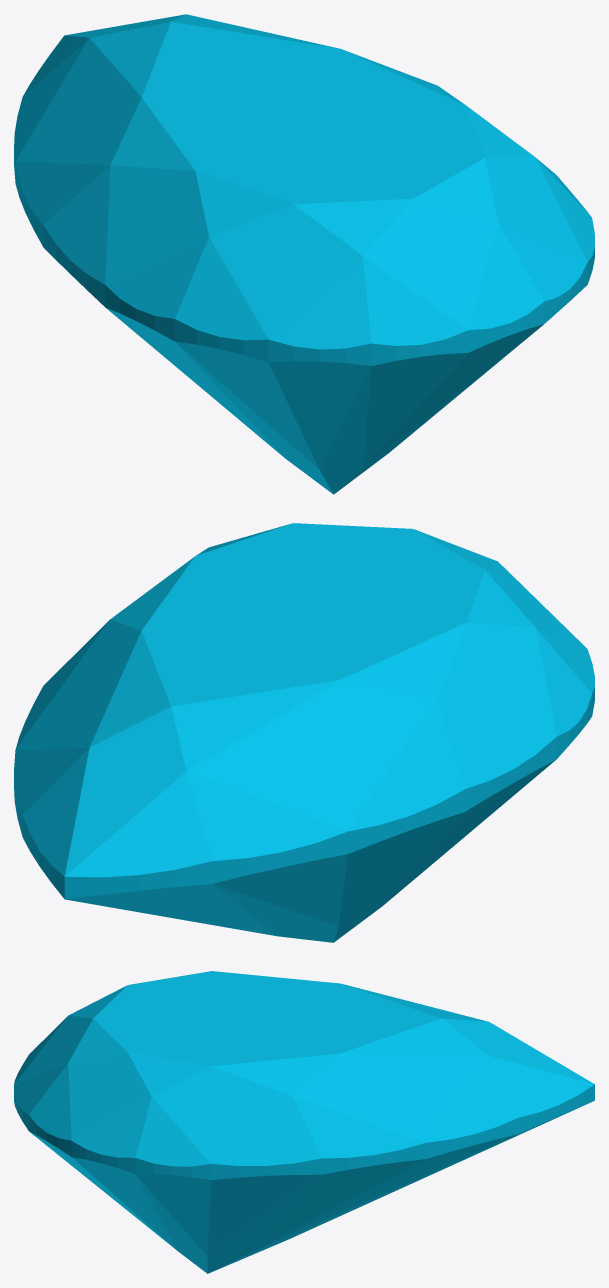
File: Head_Hidden Halo_Pear_2.0ct_Diamond.glb
3 views of the same model, one above another, from view 1: azimuth 30°, elevation 25°; view 2: azimuth 150°, elevation 25°; view 3: azimuth 270°, elevation 25° (orthographic). The views are drawn at different scales.
Bounding box in the file's own units: 0.00719 × 0.0054 × 0.0111.
